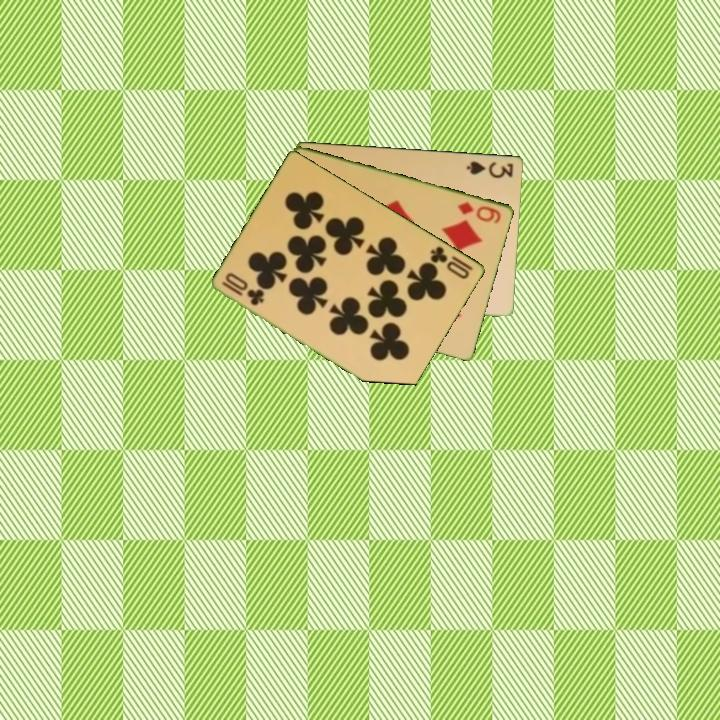10c: (218, 269, 268, 309), (427, 242, 476, 282)
3s: (463, 157, 516, 181)
6d: (454, 197, 504, 226)
